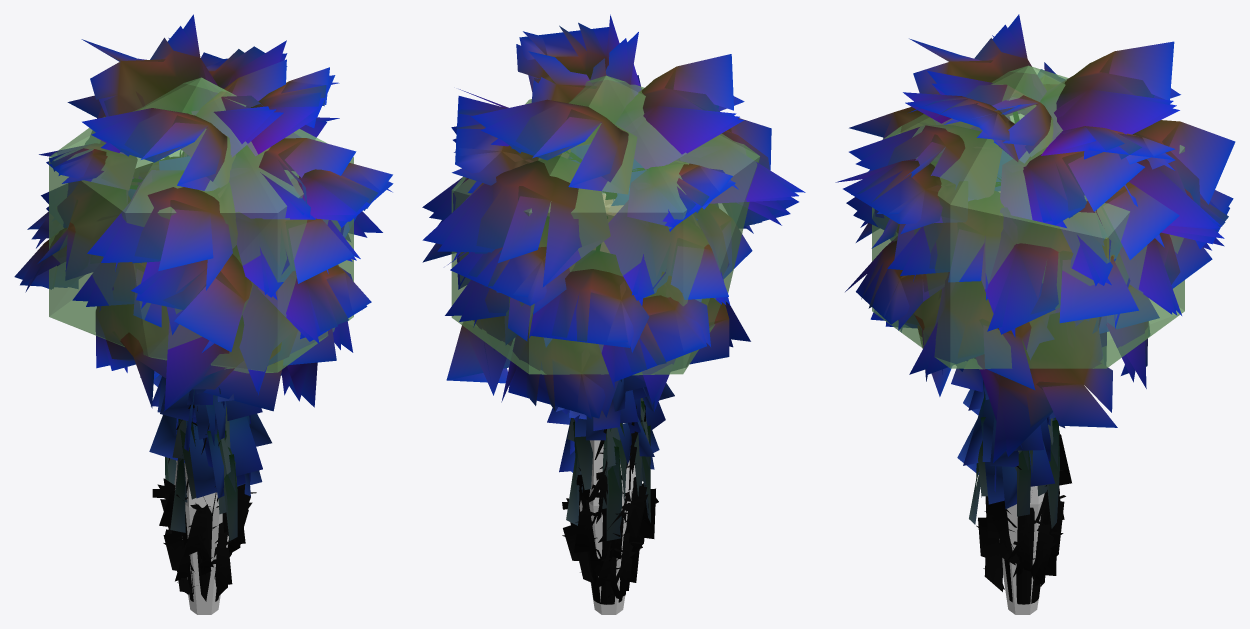
File: italy_palm_1_short.dae
3 views of the same model, side by side, from view 1: azimuth 30°, elevation 25°; view 2: azimuth 150°, elevation 25°; view 3: azimuth 270°, elevation 25° (orthographic). The views are drawn at different scales.
Visible parts, largest first — view 1: italy_palm_1_short_b750, Colmesh-1, italy_palm_1_short_b150; view 2: italy_palm_1_short_b750, italy_palm_1_short_b150, Colmesh-1; view 3: italy_palm_1_short_b750, italy_palm_1_short_b150, Colmesh-1.
Boxes of the visible parts, x1=… form: italy_palm_1_short_b750: x1=14, y1=14, x2=392, y2=601; Colmesh-1: x1=49, y1=77, x2=353, y2=614; italy_palm_1_short_b150: x1=20, y1=26, x2=393, y2=596; italy_palm_1_short_b750: x1=422, y1=14, x2=805, y2=604; italy_palm_1_short_b150: x1=422, y1=27, x2=798, y2=594; Colmesh-1: x1=451, y1=75, x2=760, y2=614; italy_palm_1_short_b750: x1=835, y1=14, x2=1235, y2=604; italy_palm_1_short_b150: x1=843, y1=24, x2=1229, y2=586; Colmesh-1: x1=872, y1=65, x2=1184, y2=614.
Bounding box in the file's own units: 4.53 × 4.82 × 7.26.
